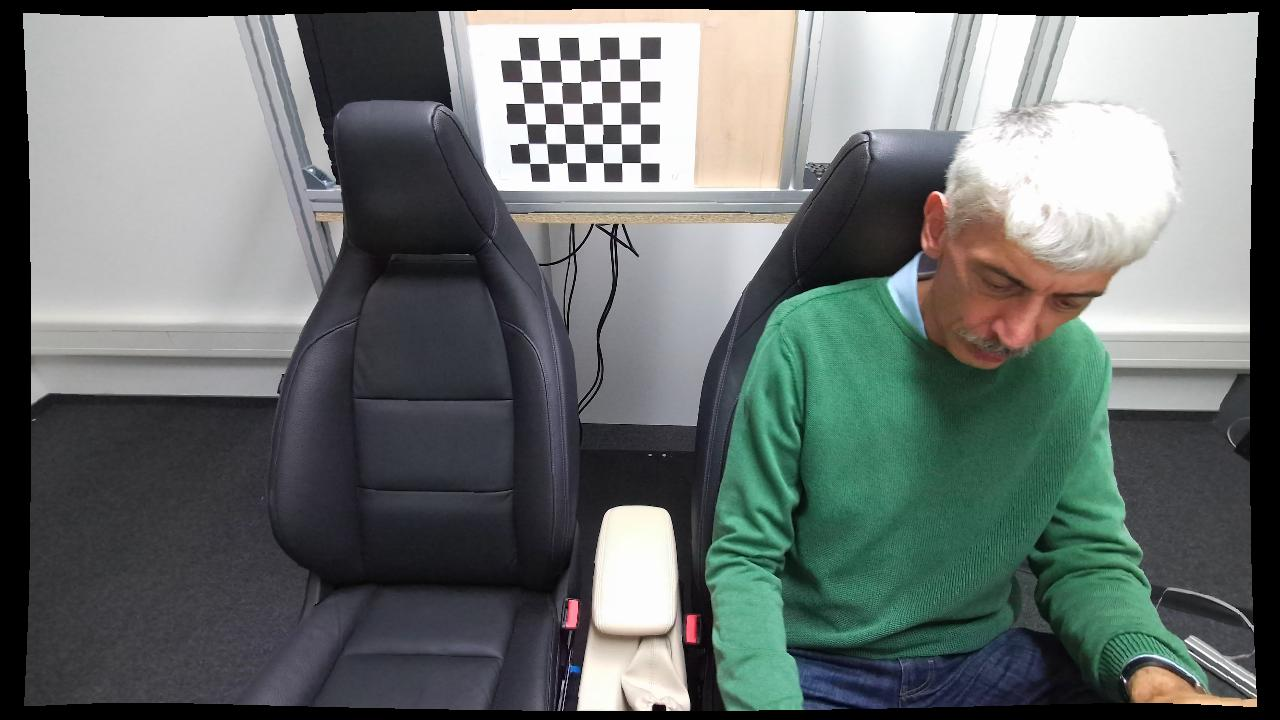SafeDriving: (706, 104, 1179, 715)
